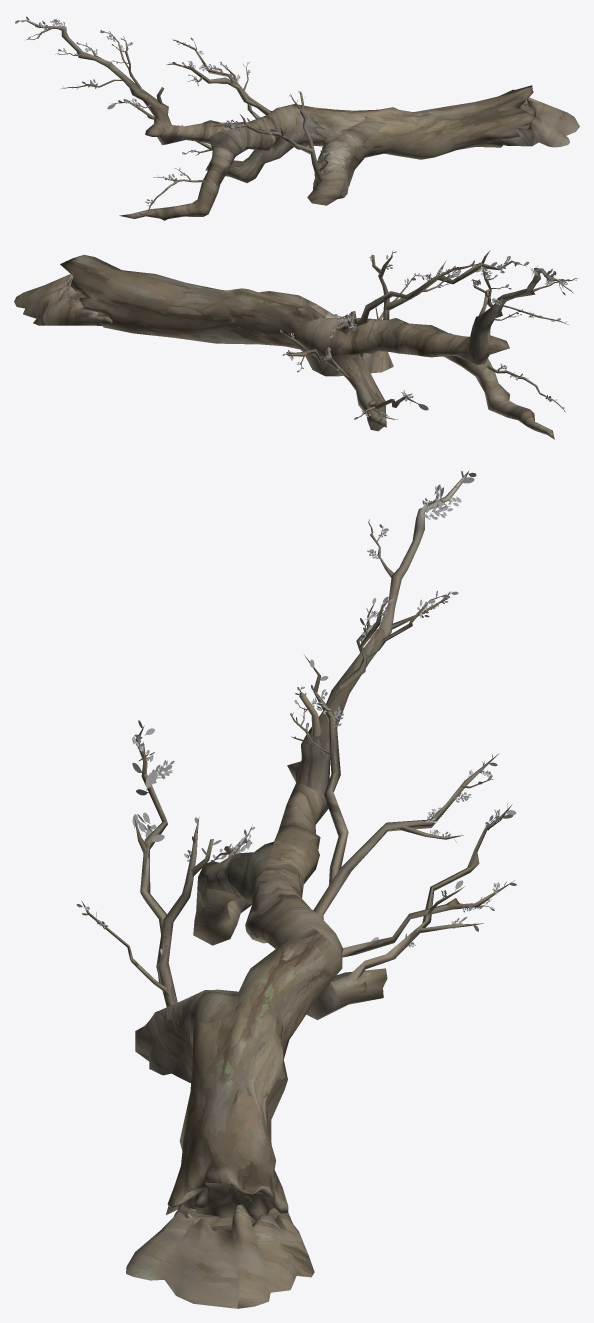
Rendered from SM_Com_Tre_13AL.fbx.
3 views of the same model, one above another, from view 1: azimuth 30°, elevation 25°; view 2: azimuth 150°, elevation 25°; view 3: azimuth 270°, elevation 25° (orthographic). The views are drawn at different scales.
Visible parts, largest first — view 1: SM_Com_Tre_13AL.mo; view 2: SM_Com_Tre_13AL.mo; view 3: SM_Com_Tre_13AL.mo.
Boxes of the visible parts, bbox=[...] form: SM_Com_Tre_13AL.mo: bbox=[15, 16, 579, 220]; SM_Com_Tre_13AL.mo: bbox=[14, 250, 579, 439]; SM_Com_Tre_13AL.mo: bbox=[76, 471, 516, 1308].
Bounding box in the file's own units: 17.68 × 6.2 × 6.75.
